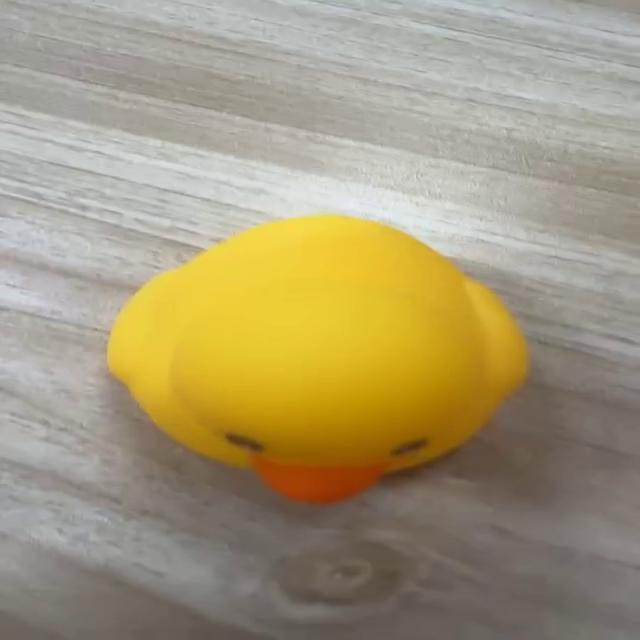yellow_duck: (103, 212, 530, 505)
